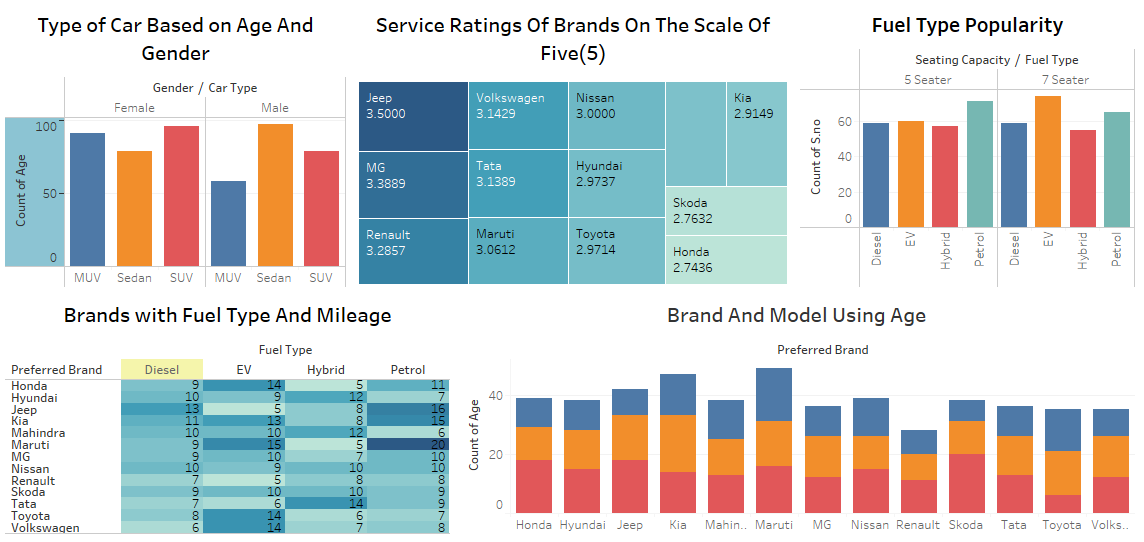

This screenshot's page, from the dashboard's own definition file:
{"tool":"tableau","page":{"name":"Dashboard 1","canvas":[1000,1000],"units":"permille","ordinal":0},"visuals":[{"type":"worksheet","title":"Sheet 1","mark":"Automatic","rows":["Age"],"cols":["Gender","Car Type"],"box":[6.9,14.5,302.4,525.4]},{"type":"worksheet","title":"Sheet 4","mark":"Automatic","box":[309.4,14.5,386.7,525.4]},{"type":"worksheet","title":"Sheet 5","mark":"Automatic","rows":["S.no"],"cols":["Seating Capacity","Fuel Type"],"box":[696.1,14.5,297,525.4]},{"type":"worksheet","title":"Sheet 3","mark":"Square","rows":["Preferred Brand"],"cols":["Fuel Type"],"box":[6.9,539.9,392.2,445.7]},{"type":"worksheet","title":"Sheet 2","mark":"Automatic","rows":["Age"],"cols":["Preferred Brand"],"box":[399.1,539.9,594,445.7]}]}

Visuals, with their boxes on the dashboard's canvas, which has no fixed pixel size, in thousandths of its width and height (x1, y1, x2, y2). These are canvas units, not pixel positions in the 1144x542 screenshot, which may show the page scaled, cropped or inside an application window:
"Sheet 1" worksheet: box=[7, 14, 309, 540]
"Sheet 4" worksheet: box=[309, 14, 696, 540]
"Sheet 5" worksheet: box=[696, 14, 993, 540]
"Sheet 3" worksheet (Square marks): box=[7, 540, 399, 986]
"Sheet 2" worksheet: box=[399, 540, 993, 986]
